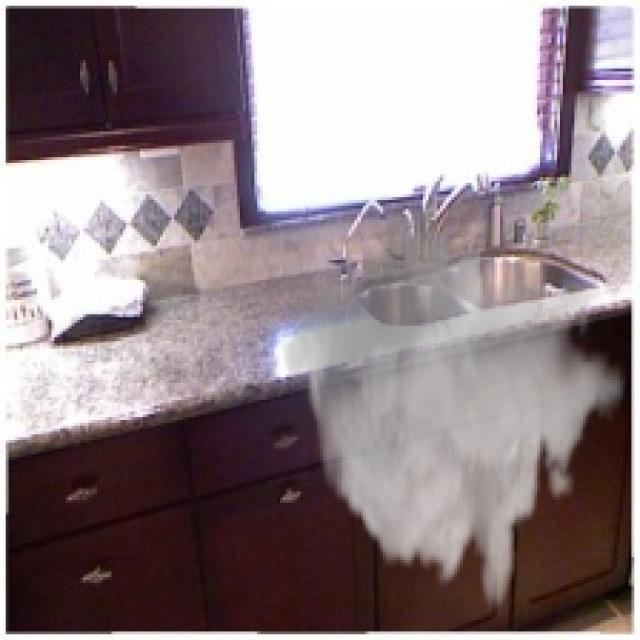Smoke: (280, 202, 626, 614)
